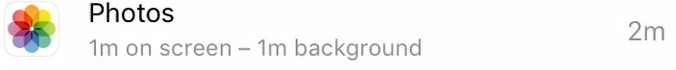name: (79, 1, 181, 28)
time: (251, 33, 292, 64), (85, 34, 125, 64)
